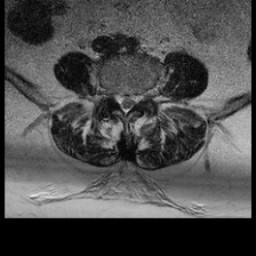CCS_normal: (122, 84, 129, 121)
LFS_normal: (136, 84, 145, 107)
LLS_normal: (129, 85, 136, 112)
RFS_normal: (106, 81, 113, 106)
RLS_normal: (113, 84, 122, 111)
